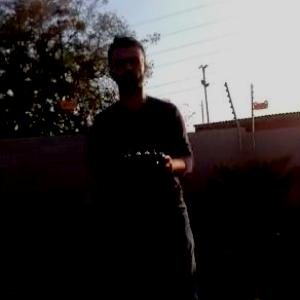follow: (86, 29, 210, 299)
